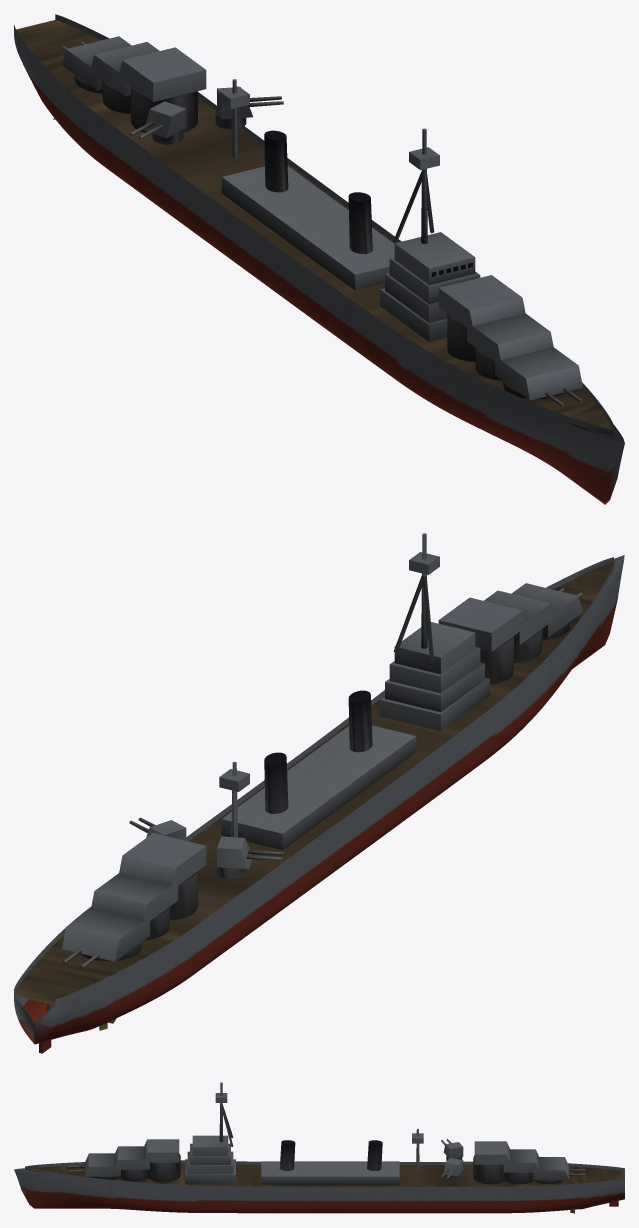
File: model_built.glb
3 views of the same model, one above another, from view 1: azimuth 30°, elevation 25°; view 2: azimuth 150°, elevation 25°; view 3: azimuth 270°, elevation 25° (orthographic). The views are drawn at different scales.
Visible parts, largest first — view 1: main; view 2: main; view 3: main.
Part boxes in pixels (x1,y1,x2,y2): main: (14, 14, 624, 504); main: (14, 533, 624, 1053); main: (14, 1082, 624, 1213).
Size of the model in its own units: 24.95 by 38.19 by 168.
Materials: 1 (1 with a texture image).
